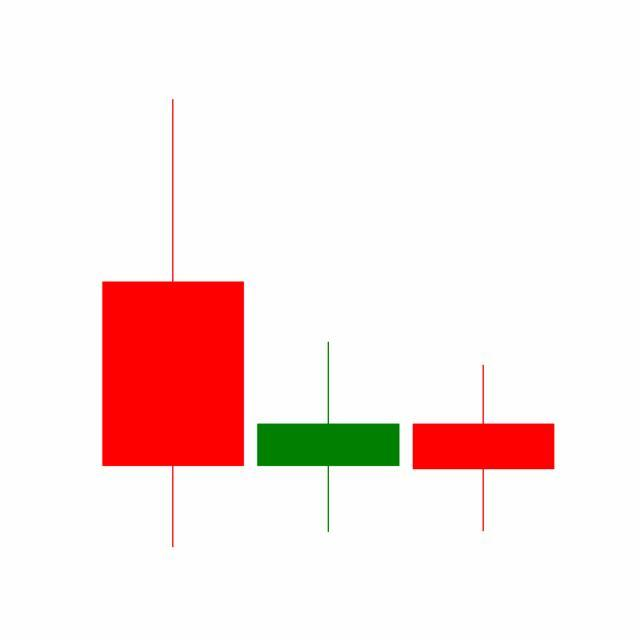Spinning Top: (406, 363, 562, 534)
